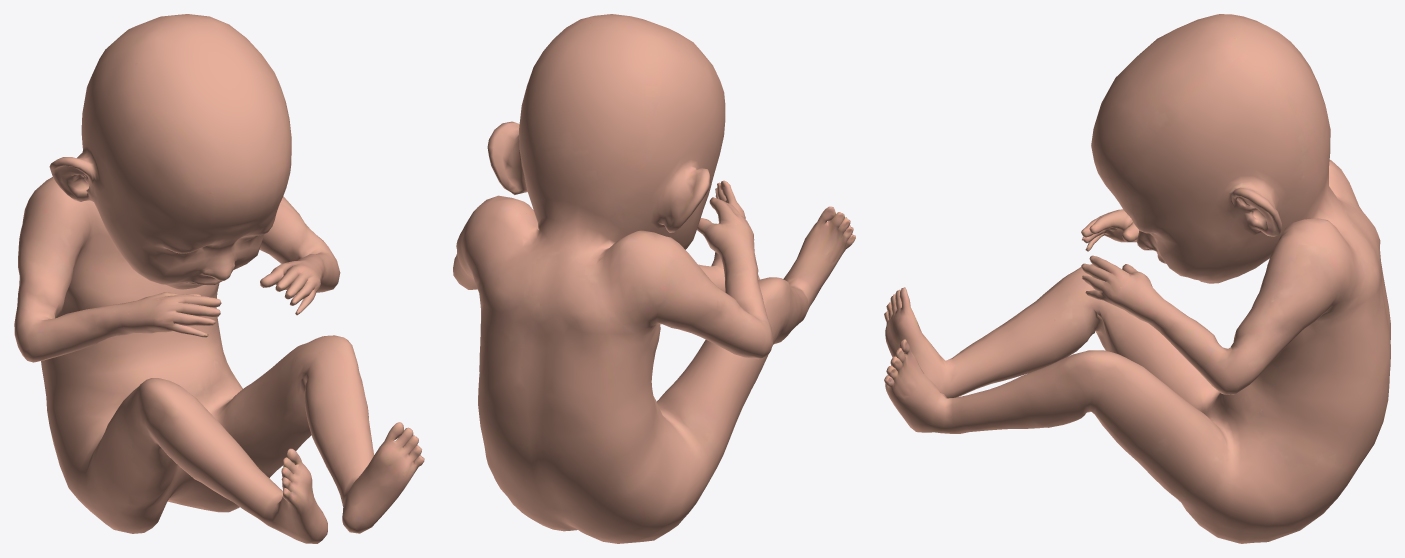
The picture shows the model from 3 angles, left to right: view 1: azimuth 30°, elevation 25°; view 2: azimuth 150°, elevation 25°; view 3: azimuth 270°, elevation 25°; orthographic projection.
Parts seen in each view (by area): view 1: Baby; view 2: Baby; view 3: Baby.
Boxes of the visible parts, bbox=[...] form: Baby: bbox=[14, 14, 424, 543]; Baby: bbox=[453, 14, 855, 543]; Baby: bbox=[884, 14, 1390, 543].
Bounding box in the file's own units: 0.2037 × 0.3098 × 0.2864.
Materials: 1 (1 with a texture image).
